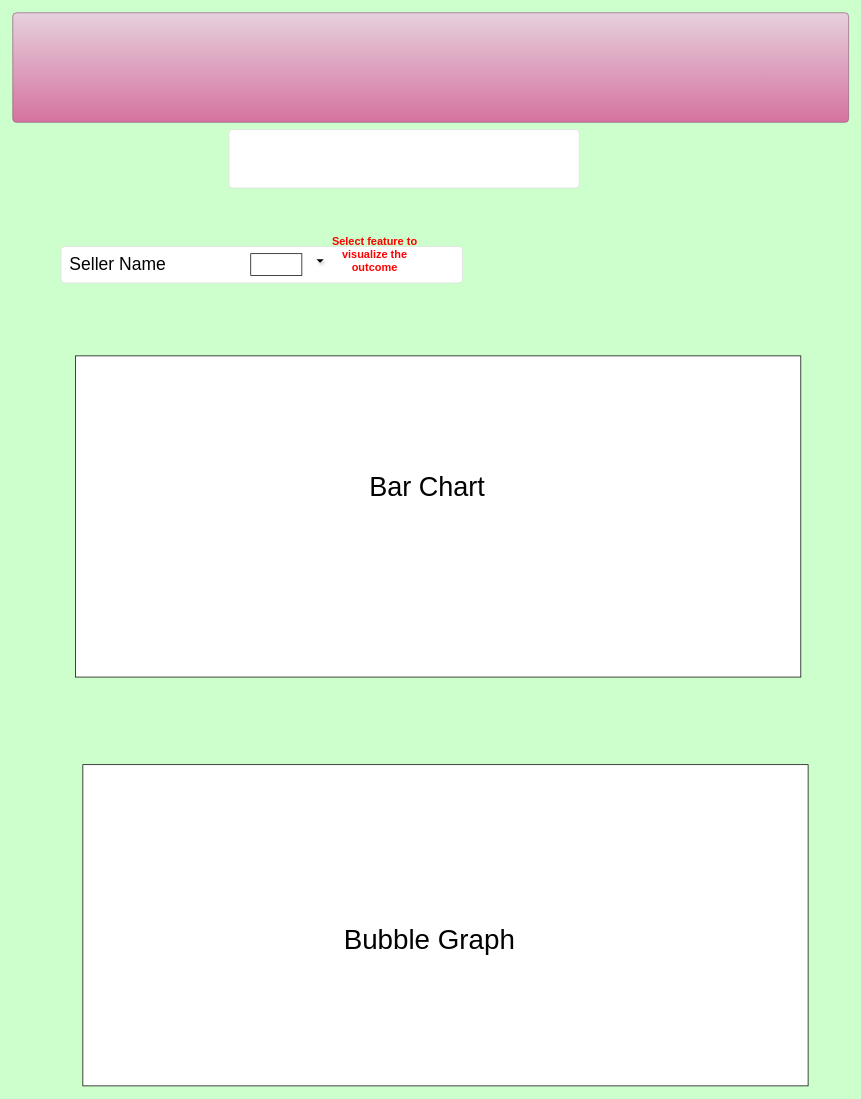
Some shapes in this 861 by 1099 pixel diagram are drawn without their labels. The shapes that lost their labels are listed below. From the top down, each one's centre as x and y in pixels, then its label:
At [430,67]: "Modeling Probability of Mortgage Default".
At [403,158]: "Use Interactive Charts Below for Analysis of the data".
